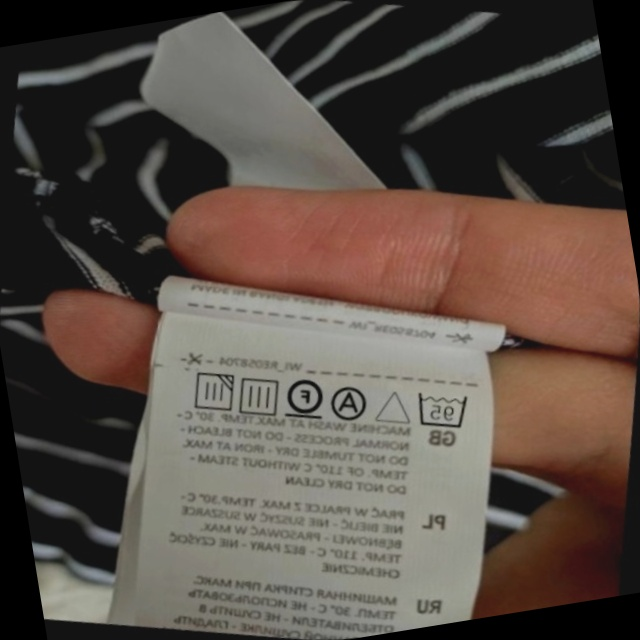95C: (406, 380, 477, 439)
bleach: (369, 379, 419, 433)
drip_dry: (229, 366, 288, 424)
drip_dry_in_shade: (181, 362, 242, 422)
dry_clean: (324, 378, 376, 429)
dry_clean_petrol_only: (277, 367, 332, 427)
